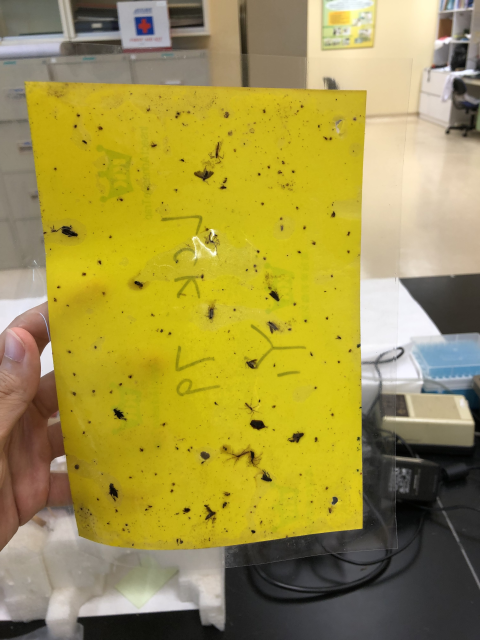DBM: (266, 288, 284, 304), (265, 319, 281, 336), (204, 503, 217, 522), (243, 357, 260, 371), (205, 307, 217, 322)
